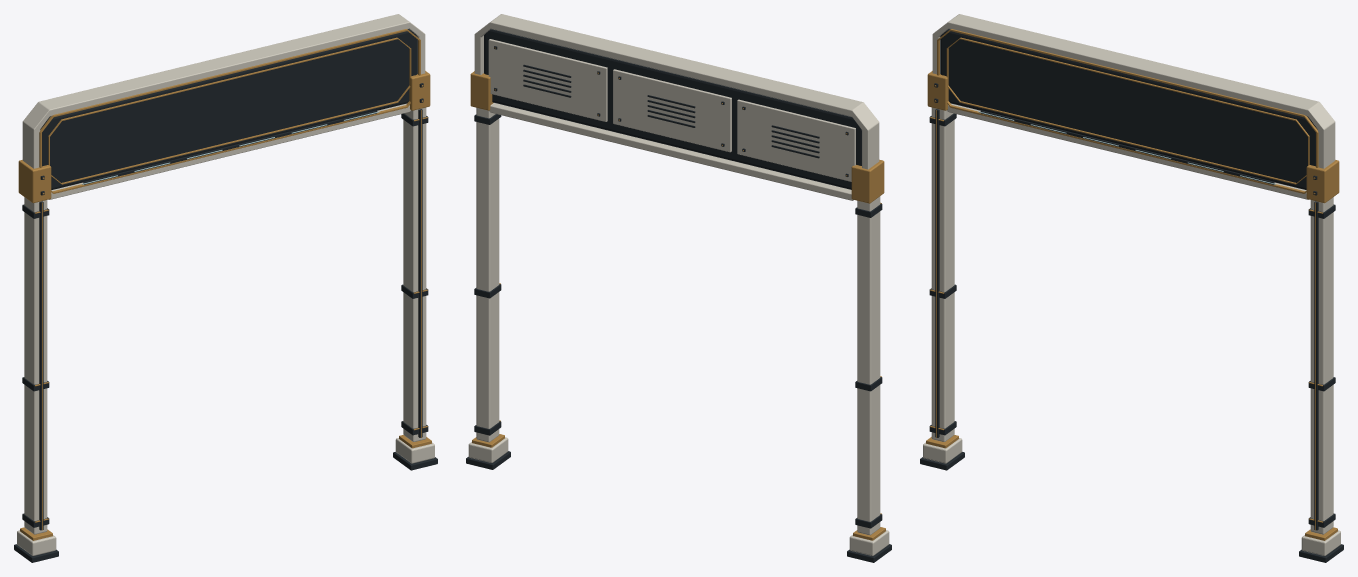
Rendered from SM_Aurelion_KIT_WayfindingChamber.fbx.
The picture shows the model from 3 angles, left to right: view 1: azimuth 30°, elevation 25°; view 2: azimuth 150°, elevation 25°; view 3: azimuth 330°, elevation 25°; orthographic projection.
Visible parts, largest first — view 1: SM_Aurelion_KIT_WayfindingChamber; view 2: SM_Aurelion_KIT_WayfindingChamber; view 3: SM_Aurelion_KIT_WayfindingChamber.
Part boxes in pixels (x1,y1,x2,y2): SM_Aurelion_KIT_WayfindingChamber: [14, 14, 437, 562]; SM_Aurelion_KIT_WayfindingChamber: [466, 14, 891, 562]; SM_Aurelion_KIT_WayfindingChamber: [920, 14, 1343, 562].
Size of what is drawn, in the model's own units: 388 by 30 by 405.
